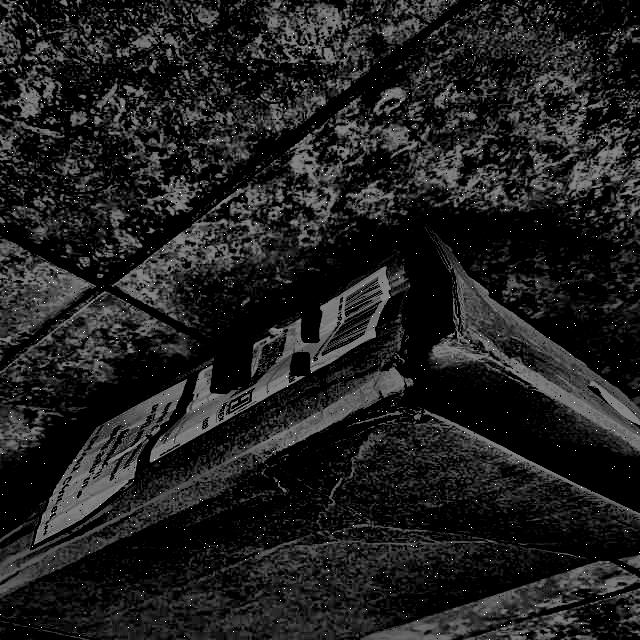box: (0, 216, 640, 639)
hole: (388, 241, 461, 368)
